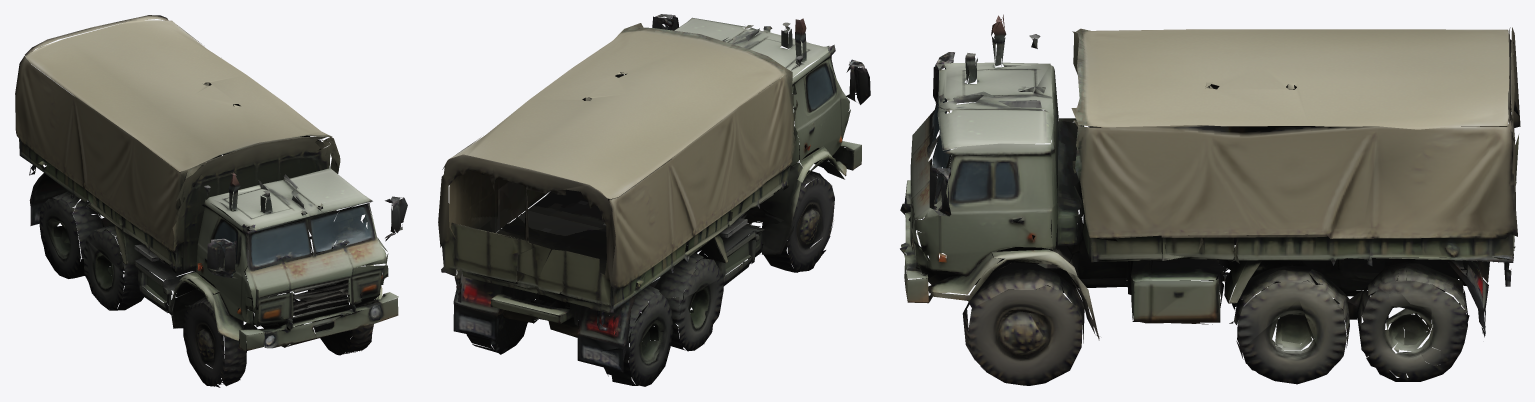
File: wreck-truck.glb
The picture shows the model from 3 angles, left to right: view 1: azimuth 30°, elevation 25°; view 2: azimuth 150°, elevation 25°; view 3: azimuth 270°, elevation 25°; orthographic projection. The views are drawn at different scales.
Visible parts, largest first — view 1: world; view 2: world; view 3: world.
Boxes of the visible parts, left/top/right/bottom form: world: left=15, top=15, right=407, bottom=387; world: left=438, top=14, right=870, bottom=386; world: left=900, top=14, right=1520, bottom=385.
Bounding box in the file's own units: 1.76 × 1.8 × 3.52.
1 material, 1 textured.
